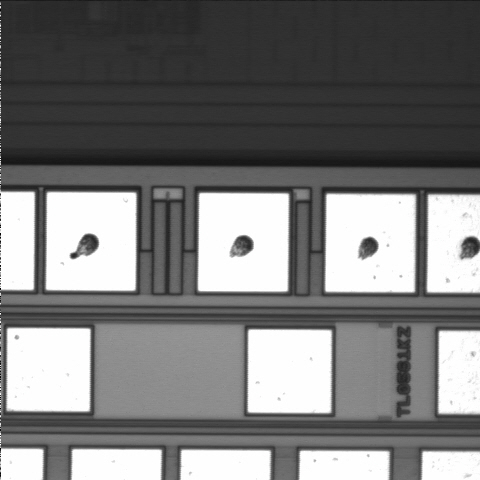pad: (198, 193, 289, 292), (46, 192, 136, 291), (325, 194, 415, 292), (7, 328, 90, 411), (248, 330, 331, 413)
